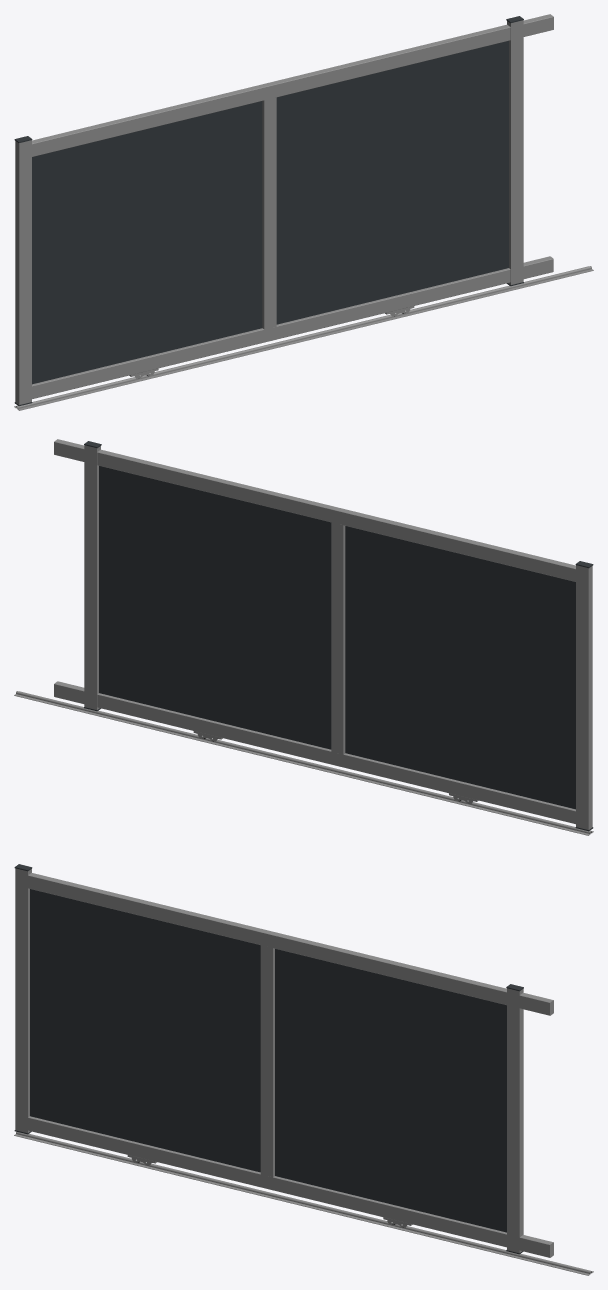
3 views of the same model, one above another, from view 1: azimuth 30°, elevation 25°; view 2: azimuth 150°, elevation 25°; view 3: azimuth 330°, elevation 25° (orthographic).
Parts seen in each view (by area): view 1: Chapa Alucobond006, Shape107412320, Shape107412319, Pilar, Pilar001, Rail, Shape107412812; view 2: Chapa Alucobond006, Shape107412320, Shape107412319, Pilar, Pilar001, Rail, Shape107412812; view 3: Chapa Alucobond006, Shape107412320, Shape107412319, Pilar001, Pilar, Rail, Shape107412812.
Part boxes in pixels (x1=…): Chapa Alucobond006: x1=32, y1=41, x2=508, y2=384; Shape107412320: x1=32, y1=14, x2=553, y2=156; Shape107412319: x1=32, y1=256, x2=553, y2=398; Pilar: x1=15, y1=140, x2=31, y2=404; Pilar001: x1=507, y1=20, x2=523, y2=284; Rail: x1=14, y1=266, x2=593, y2=410; Shape107412812: x1=262, y1=97, x2=276, y2=329; Chapa Alucobond006: x1=99, y1=466, x2=575, y2=809; Shape107412320: x1=54, y1=439, x2=575, y2=581; Shape107412319: x1=54, y1=681, x2=575, y2=824; Pilar: x1=576, y1=565, x2=592, y2=829; Pilar001: x1=84, y1=445, x2=100, y2=709; Rail: x1=14, y1=691, x2=593, y2=835; Shape107412812: x1=331, y1=522, x2=345, y2=754; Chapa Alucobond006: x1=30, y1=889, x2=506, y2=1232; Shape107412320: x1=28, y1=873, x2=553, y2=1015; Shape107412319: x1=28, y1=1116, x2=553, y2=1257; Pilar001: x1=507, y1=988, x2=523, y2=1253; Pilar: x1=15, y1=868, x2=31, y2=1133; Rail: x1=14, y1=1131, x2=593, y2=1275; Shape107412812: x1=260, y1=945, x2=274, y2=1177.
Size of the model in its own units: 3600 by 1606 by 60.02.
Materials: 8 (4 with a texture image).
